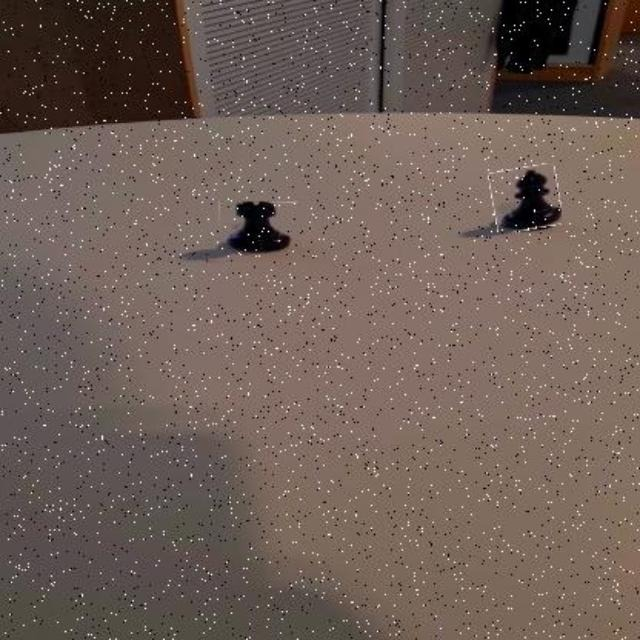black-bishop: (490, 166, 560, 232)
black-rook: (218, 202, 298, 254)
